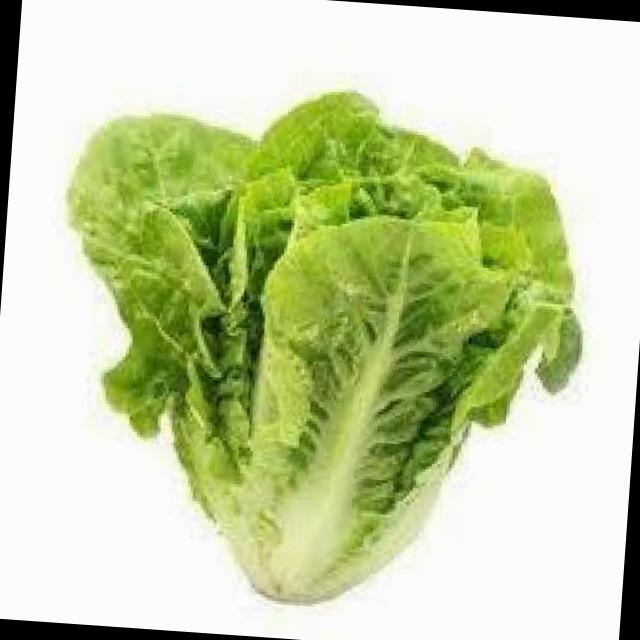Lettuce-Ready-to-Harvest: (69, 92, 579, 601)
